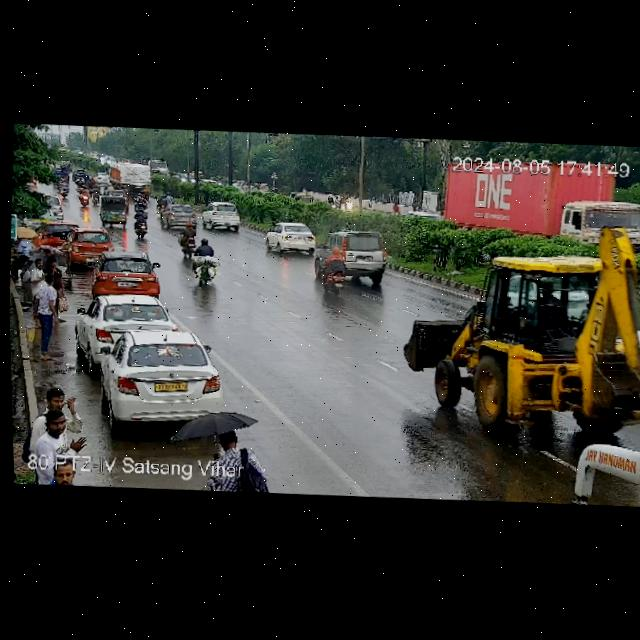bus: (572, 412, 640, 506)
car: (95, 329, 222, 430), (77, 291, 171, 357), (324, 228, 394, 286), (90, 249, 164, 299), (565, 198, 640, 239), (263, 220, 321, 256), (63, 227, 112, 265), (199, 200, 246, 232), (96, 190, 130, 228), (161, 202, 200, 229)
motorcycle: (186, 237, 225, 286), (324, 242, 351, 295), (176, 223, 205, 258), (132, 206, 151, 236), (73, 168, 94, 192), (156, 192, 174, 213), (76, 183, 89, 208), (132, 192, 146, 214), (57, 178, 71, 200), (85, 177, 99, 191), (91, 187, 101, 205)
person: (177, 400, 272, 463), (33, 272, 64, 362), (34, 386, 75, 420), (37, 408, 75, 444), (29, 255, 45, 311), (49, 257, 60, 275)
truck: (395, 226, 640, 446), (428, 141, 629, 248), (110, 160, 156, 190)
